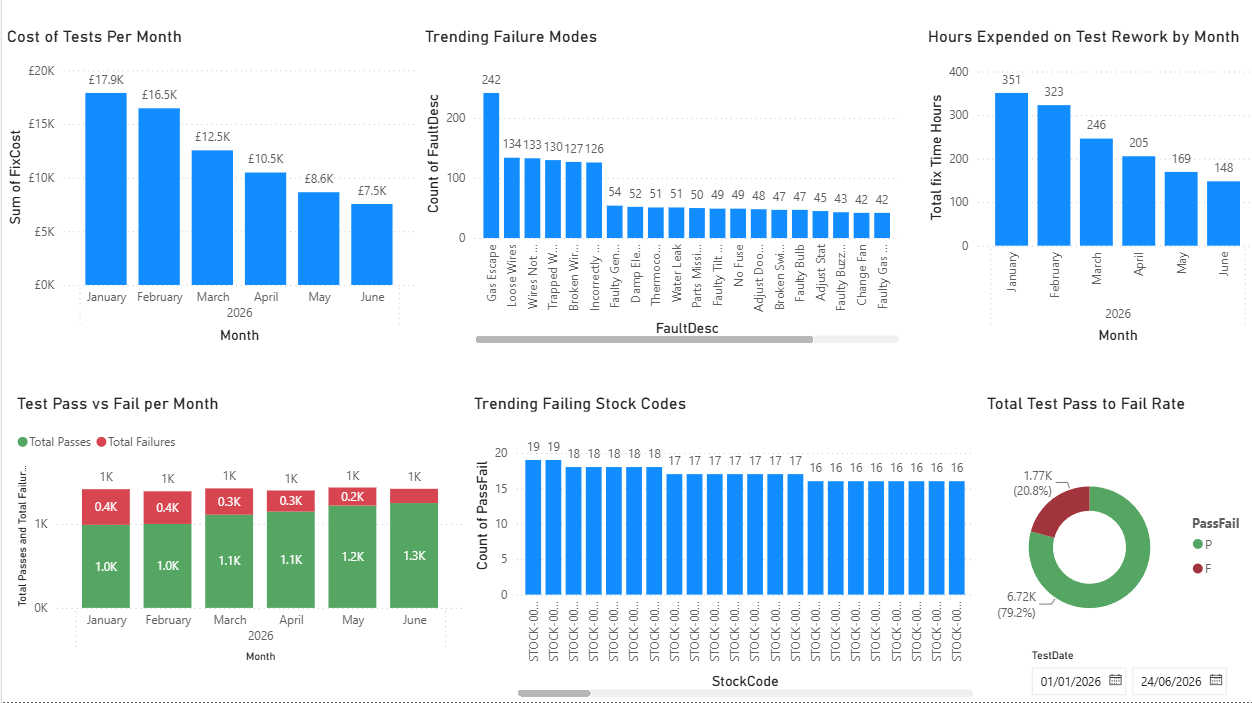

Layout of this report page (visuals, bound fields, positions):
{"tool":"powerbi","page":{"name":"Overall Summary","canvas":[1280,720],"ordinal":1},"visuals":[{"type":"columnChart","fields":{"Category":["datamanufacturing manufacture data clean final.AssDate.Variation.Date Hierarchy.Year","datamanufacturing manufacture data clean final.AssDate.Variation.Date Hierarchy.Month"],"Y":["datamanufacturing manufacture data clean final.Total Passes","datamanufacturing manufacture data clean final.Total Failures"]},"box":[9.8,314.8,464,369.1],"z":0},{"type":"clusteredColumnChart","fields":{"Y":["Sum(datamanufacturing manufacture data clean final.FixCost)"],"Category":["datamanufacturing manufacture data clean final.AssDate.Variation.Date Hierarchy.Year","datamanufacturing manufacture data clean final.AssDate.Variation.Date Hierarchy.Month"]},"box":[0,0,424.3,304.9],"z":1000},{"type":"clusteredColumnChart","fields":{"Category":["datamanufacturing manufacture data clean final.FaultDesc"],"Y":["CountNonNull(datamanufacturing manufacture data clean final.FaultDesc)"]},"box":[438.6,0,491.1,327.2],"z":2000},{"type":"clusteredColumnChart","fields":{"Y":["CountNonNull(datamanufacturing manufacture data clean final.PassFail)"],"Category":["datamanufacturing manufacture data clean final.StockCode"]},"box":[473.8,382.2,437.1,301.7],"z":3000},{"type":"clusteredColumnChart","fields":{"Category":["datamanufacturing manufacture data clean final.AssDate.Variation.Date Hierarchy.Year","datamanufacturing manufacture data clean final.AssDate.Variation.Date Hierarchy.Month"],"Y":["datamanufacturing manufacture data clean final.Total fix Time Hours"]},"box":[935,0,345,327],"z":4000},{"type":"donutChart","fields":{"Category":["datamanufacturing manufacture data clean final.PassFail"],"Y":["CountNonNull(datamanufacturing manufacture data clean final.PassFail)"]},"box":[929.5,382,345,302],"z":5000},{"type":"slicer","fields":{"Values":["datamanufacturing manufacture data clean final.TestDate"]},"box":[707.4,0,227.9,58.8],"z":6000}]}

Visuals, with their boxes in screenshot pixels (x1, y1, x2, y2), scaled from the page's 1280x720 canvas onto the 1252x703 screenshot:
columnChart - datamanufacturing manufacture data clean final.AssDate.Variation.Date Hierarchy.Year x datamanufacturing manufacture data clean final.AssDate.Variation.Date Hierarchy.Month: <bbox>10, 307, 463, 668</bbox>
clusteredColumnChart - Sum(datamanufacturing manufacture data clean final.FixCost) x datamanufacturing manufacture data clean final.AssDate.Variation.Date Hierarchy.Year: <bbox>0, 0, 415, 298</bbox>
clusteredColumnChart - datamanufacturing manufacture data clean final.FaultDesc x CountNonNull(datamanufacturing manufacture data clean final.FaultDesc): <bbox>429, 0, 909, 319</bbox>
clusteredColumnChart - CountNonNull(datamanufacturing manufacture data clean final.PassFail) x datamanufacturing manufacture data clean final.StockCode: <bbox>463, 373, 891, 668</bbox>
clusteredColumnChart - datamanufacturing manufacture data clean final.AssDate.Variation.Date Hierarchy.Year x datamanufacturing manufacture data clean final.AssDate.Variation.Date Hierarchy.Month: <bbox>915, 0, 1251, 319</bbox>
donutChart - datamanufacturing manufacture data clean final.PassFail x CountNonNull(datamanufacturing manufacture data clean final.PassFail): <bbox>909, 373, 1247, 668</bbox>
slicer - datamanufacturing manufacture data clean final.TestDate: <bbox>692, 0, 915, 57</bbox>
